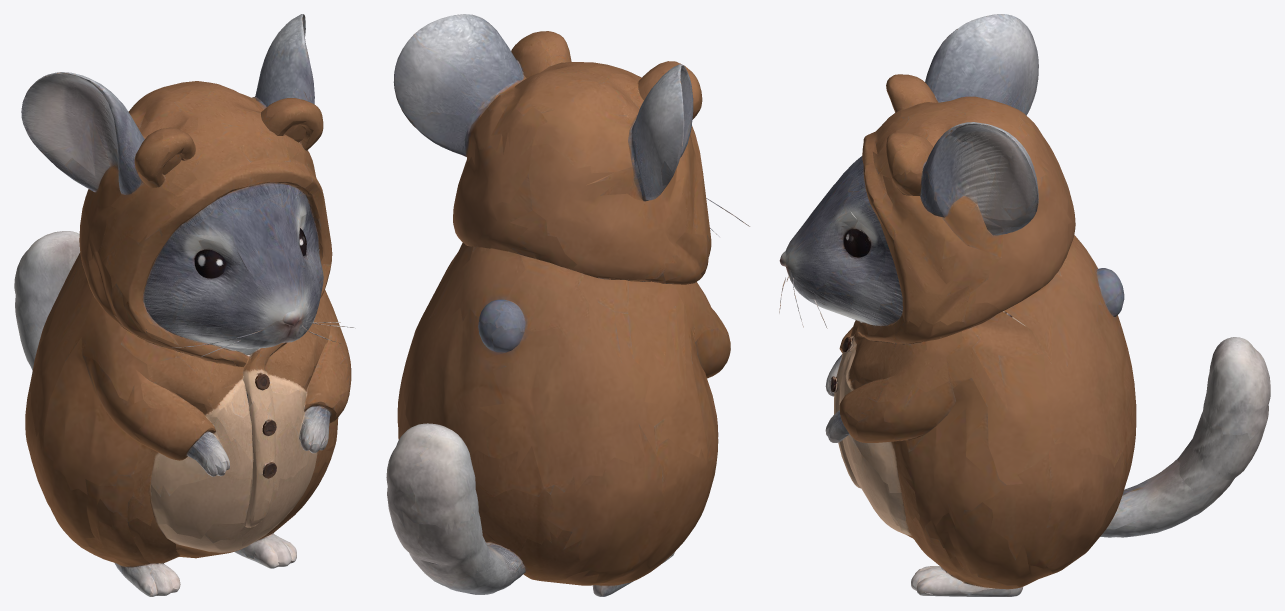
File: costume-bear-onesie_chinchilla-gray.glb
The picture shows the model from 3 angles, left to right: view 1: azimuth 30°, elevation 25°; view 2: azimuth 150°, elevation 25°; view 3: azimuth 270°, elevation 25°; orthographic projection. The views are drawn at different scales.
Visible parts, largest first — view 1: Mesh_0; view 2: Mesh_0; view 3: Mesh_0.
Boxes of the visible parts, box(x1,y1,x2,y2) form: Mesh_0: box(14, 14, 353, 596); Mesh_0: box(386, 14, 749, 596); Mesh_0: box(779, 14, 1270, 596).
Bounding box in the file's own units: 1.1 × 1.9 × 1.69.
1 material, 1 textured.
